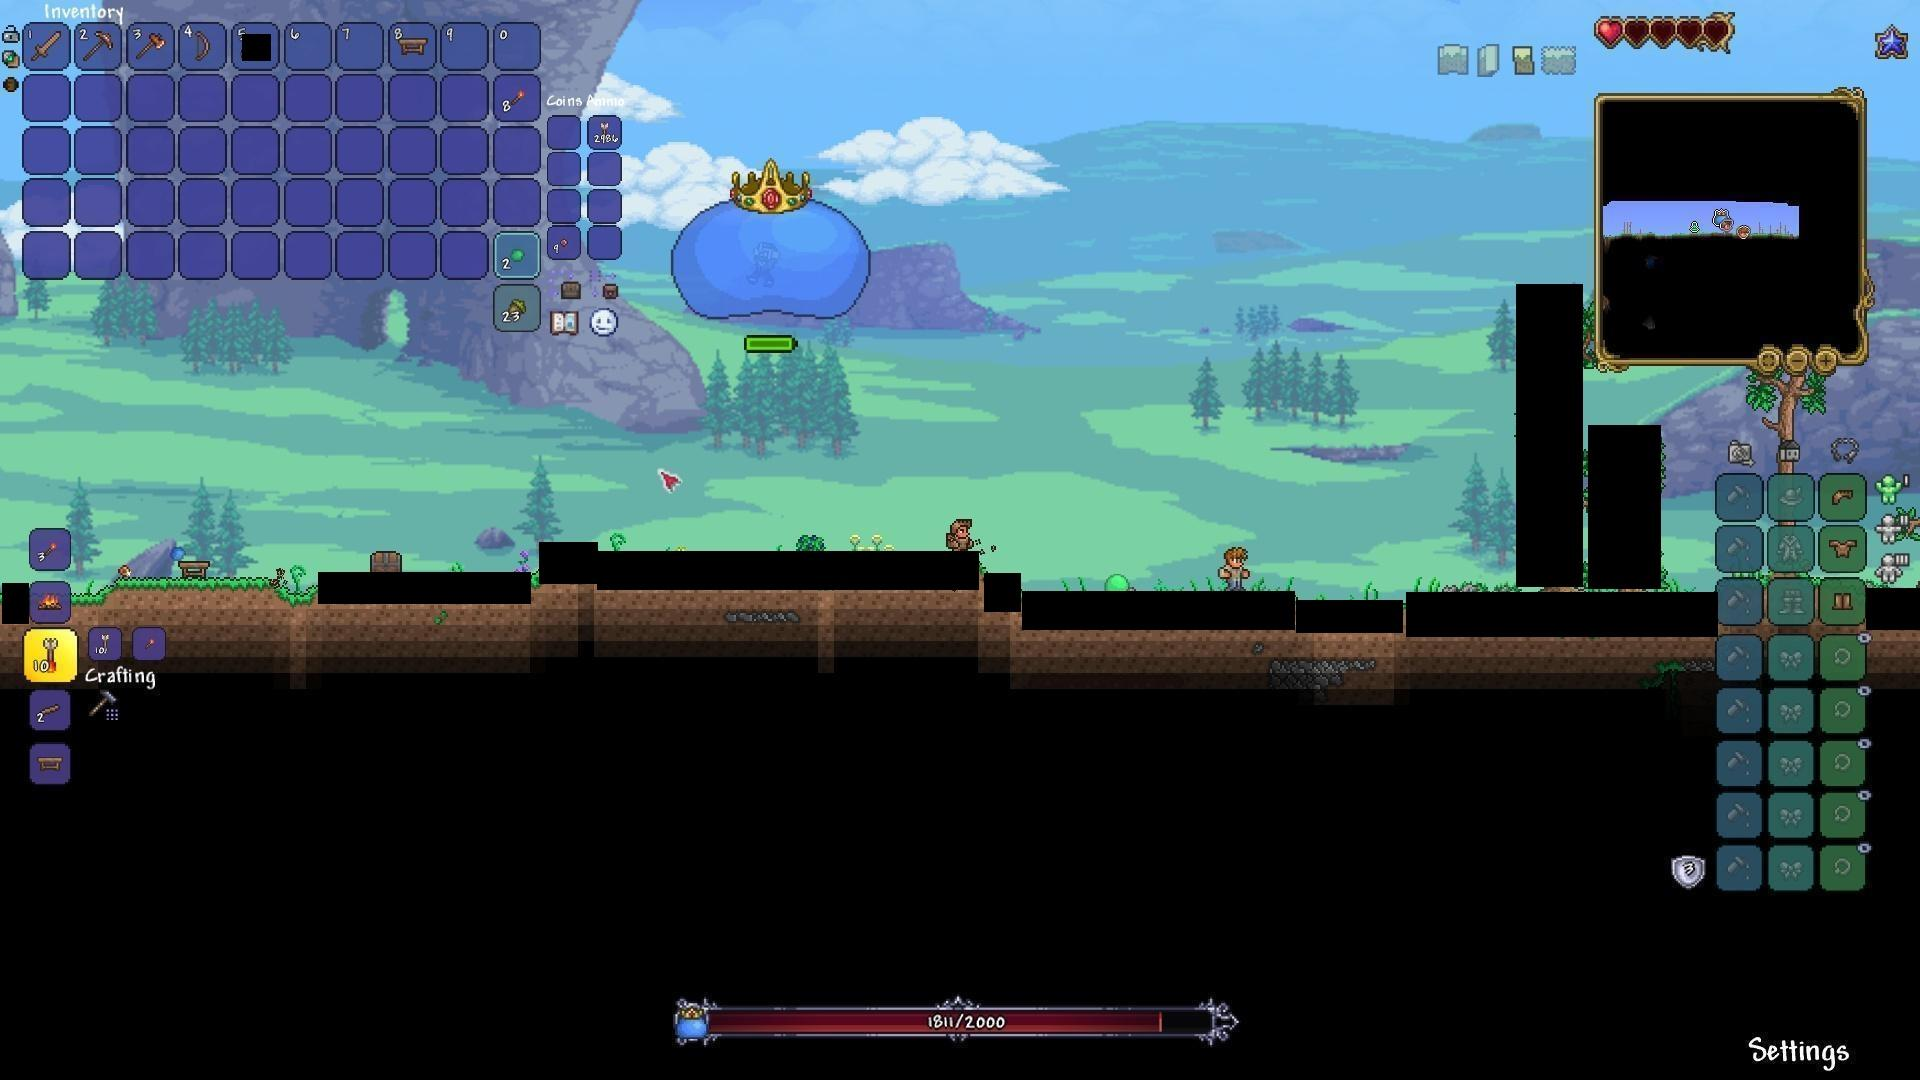breastplate: (1829, 537, 1859, 558)
dirt: (79, 576, 316, 615)
heart: (1594, 15, 1625, 44)
helmet: (1826, 484, 1858, 512)
legs: (1832, 587, 1857, 616)
slime: (1108, 574, 1133, 596)
workbench: (178, 558, 215, 583), (398, 37, 435, 62), (36, 753, 67, 775)
